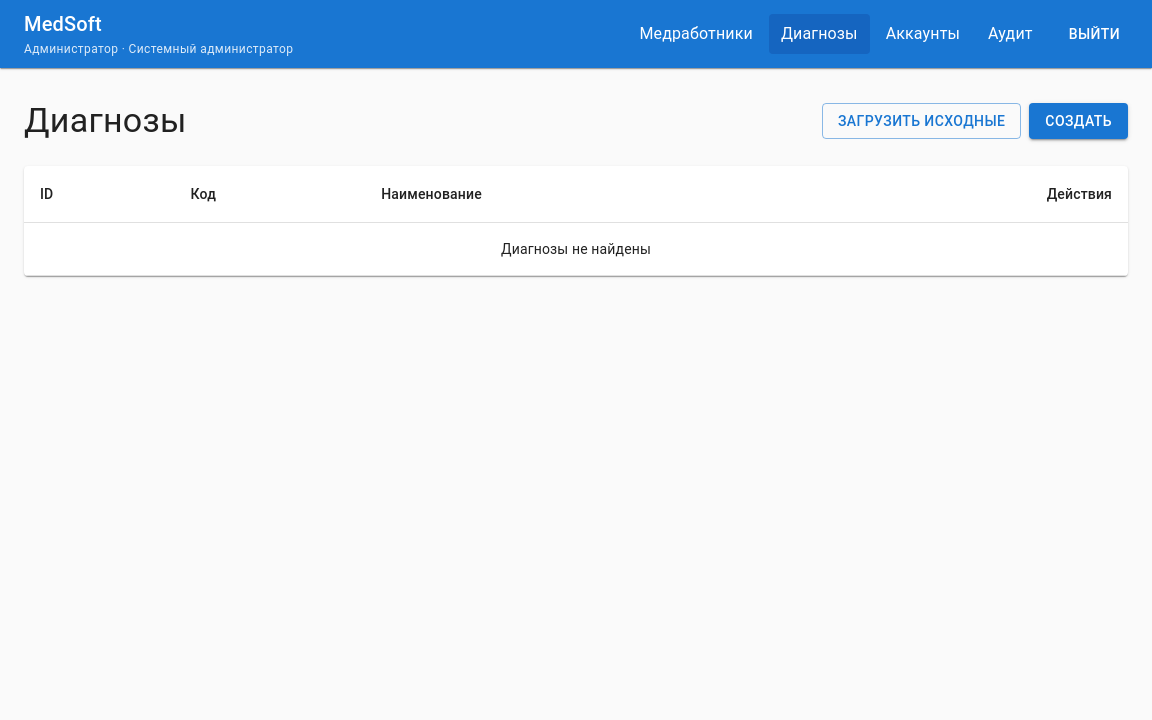
Test case: App routing and existing pages › loads the diagnosis seed through the administrator API
Check: the text "Диагнозы не найдены" is shown, box x1=24 y1=222 x2=1128 y2=275
Click the button "Загрузить исходные".
click(922, 121)  # box x1=822 y1=103 x2=1021 y2=139
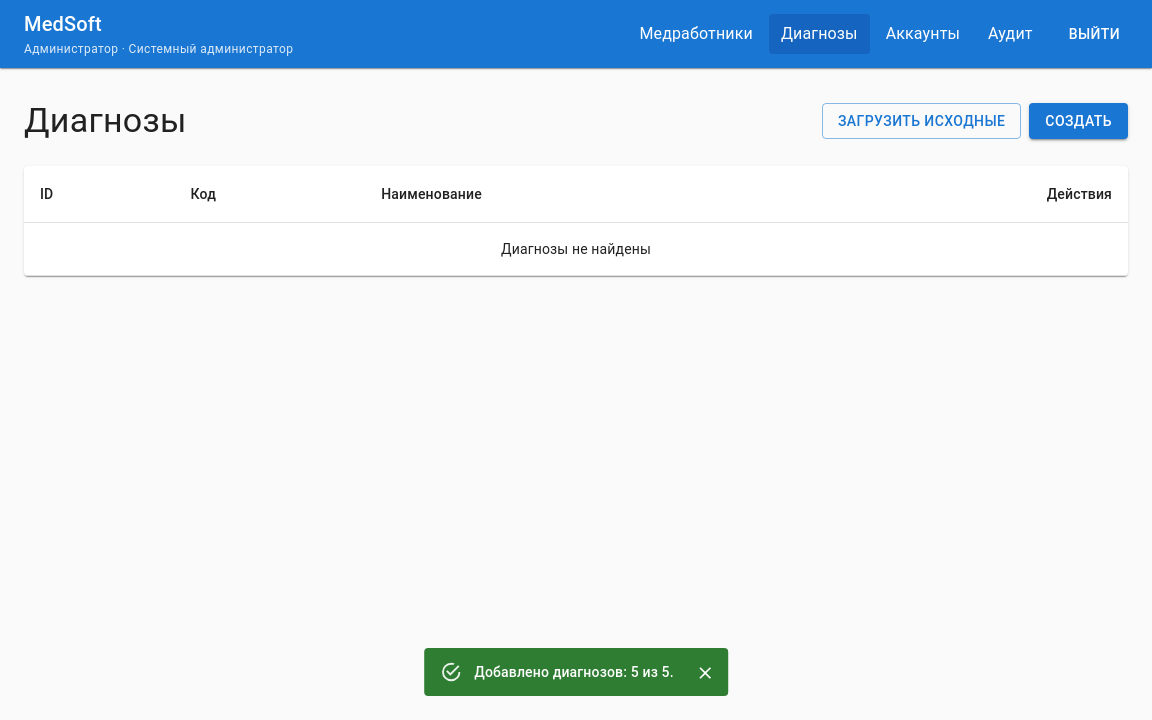
Check: the text "Добавлено диагнозов: 5 из 5." is shown, box x1=474 y1=664 x2=674 y2=680
